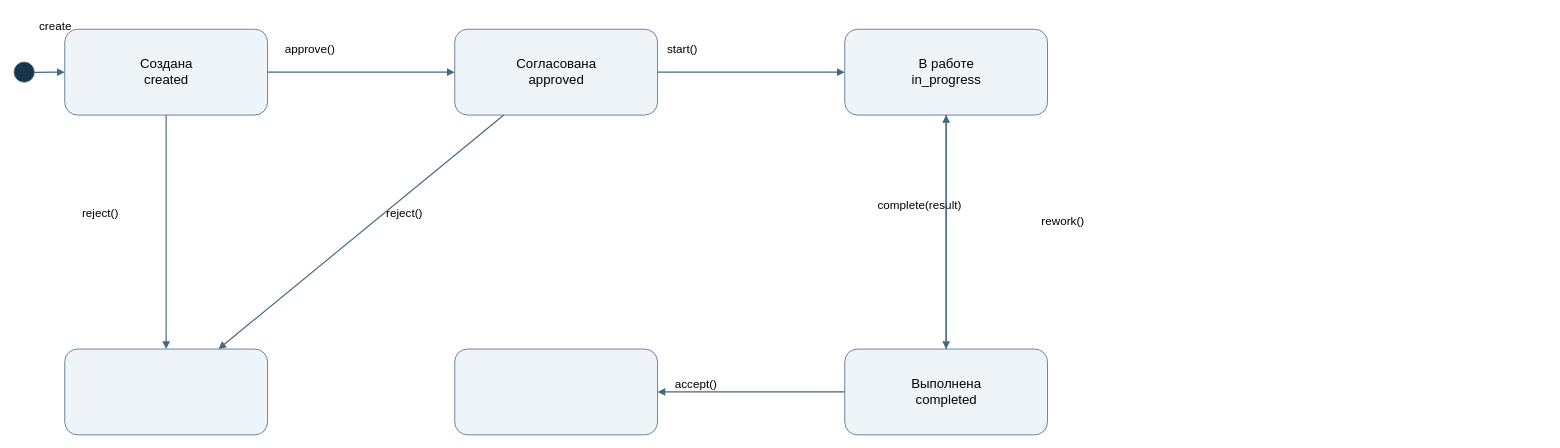
Some shapes in this 1560 by 448 pixel diagram are drawn without their labels. Here are the shapes that lost their labels. From the top down, the centre of each, then its label:
At point (166, 391): "Отклонена rejected".
At point (556, 391): "Закрыта closed".
